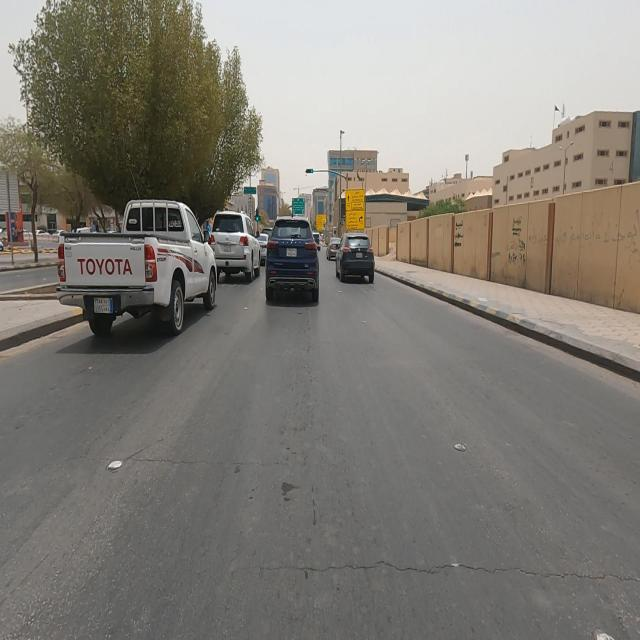Graffiti: (556, 211, 640, 272), (508, 216, 548, 265), (455, 221, 465, 252)
